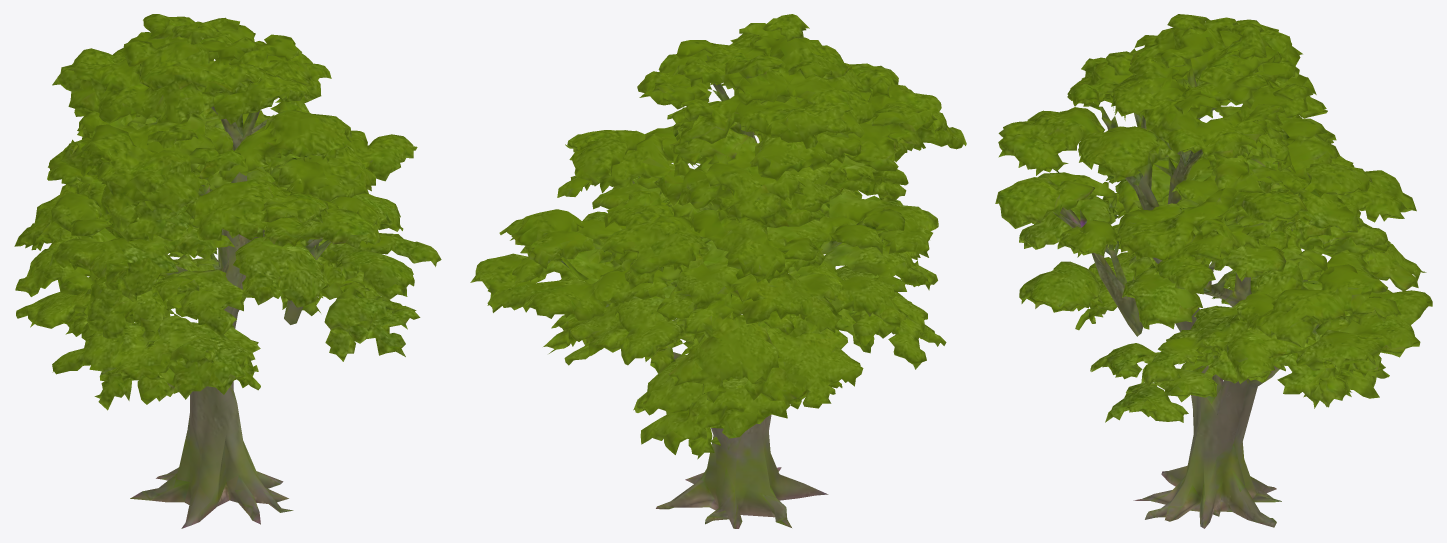
The model's file is lush-canopy-oak.glb.
3 renders of one model, left to right at view 1: azimuth 30°, elevation 25°; view 2: azimuth 150°, elevation 25°; view 3: azimuth 270°, elevation 25°, orthographic. The views are drawn at different scales.
Visible parts, largest first — view 1: Mesh_0; view 2: Mesh_0; view 3: Mesh_0.
Boxes of the visible parts, box(x1,y1,x2,y2) form: Mesh_0: box(14, 14, 441, 528); Mesh_0: box(470, 14, 966, 528); Mesh_0: box(995, 14, 1432, 528).
Size of the model in its own units: 4.93 by 6 by 5.07.
1 material, 1 textured.
